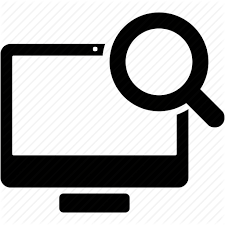searchIcon: (108, 10, 225, 129)
